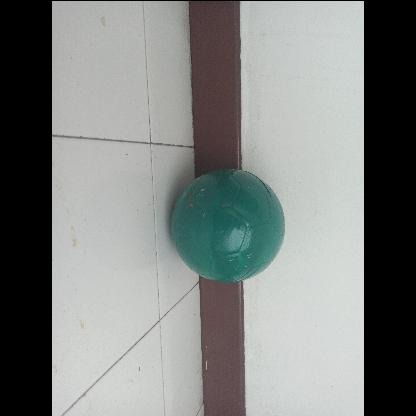green_ball: (172, 164, 288, 280)
